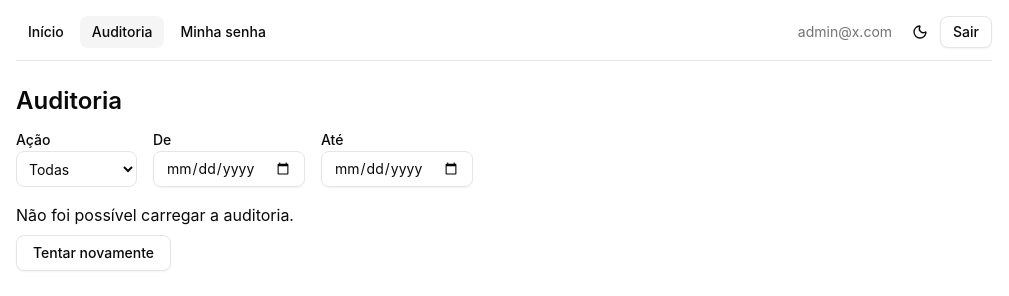
Scenario: AuditList on /audit › shows error with retry
Expected: the text "Não foi possível carregar a auditoria." is shown, 16,205 -> 294,225
Step 1. Click the button "Tentar novamente" → (94, 253), box 16,235 -> 171,271
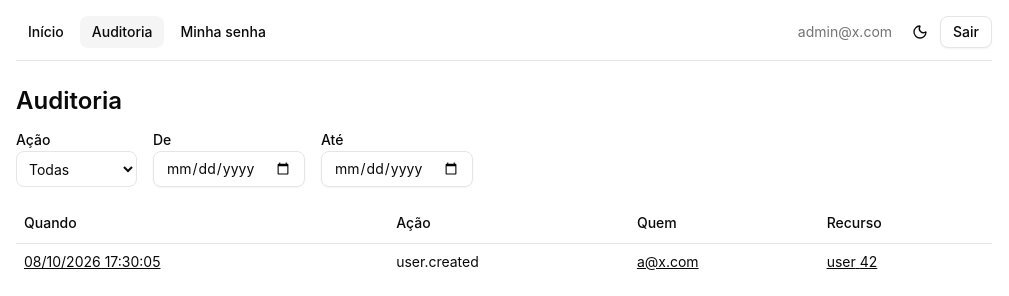
Expected: the table is shown, 16,203 -> 992,280
